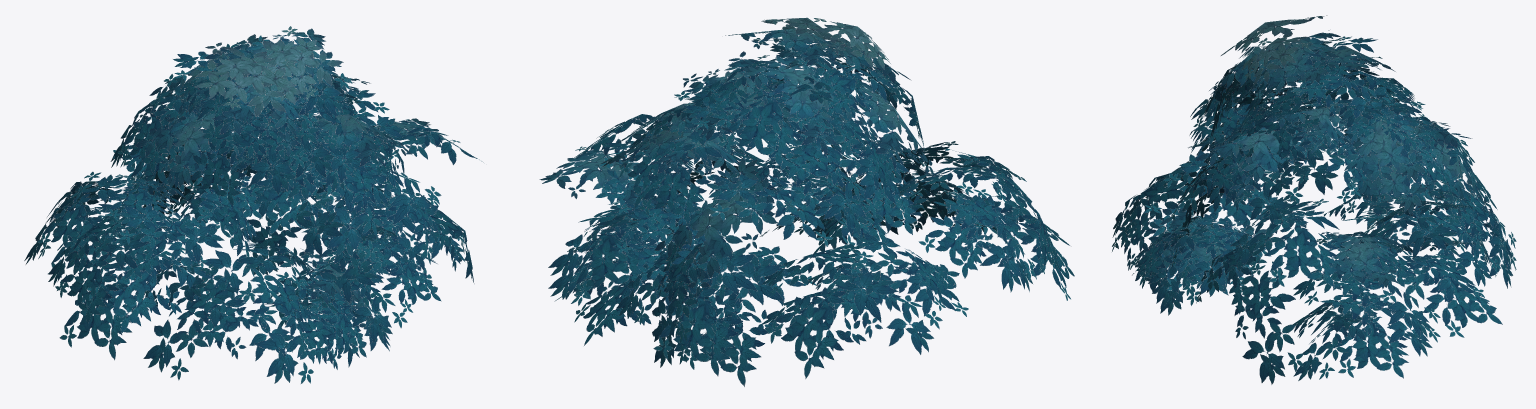
The model's file is Area09_13.FBX.
3 renders of one model, left to right at view 1: azimuth 30°, elevation 25°; view 2: azimuth 150°, elevation 25°; view 3: azimuth 270°, elevation 25°, orthographic. The views are drawn at different scales.
Parts seen in each view (by area): view 1: Area09_13; view 2: Area09_13; view 3: Area09_13.
Part boxes in pixels (bbox=[...]): Area09_13: bbox=[24, 26, 483, 383]; Area09_13: bbox=[539, 17, 1074, 386]; Area09_13: bbox=[1112, 15, 1516, 384].
Size of the model in its own units: 1226 by 753 by 1002.
